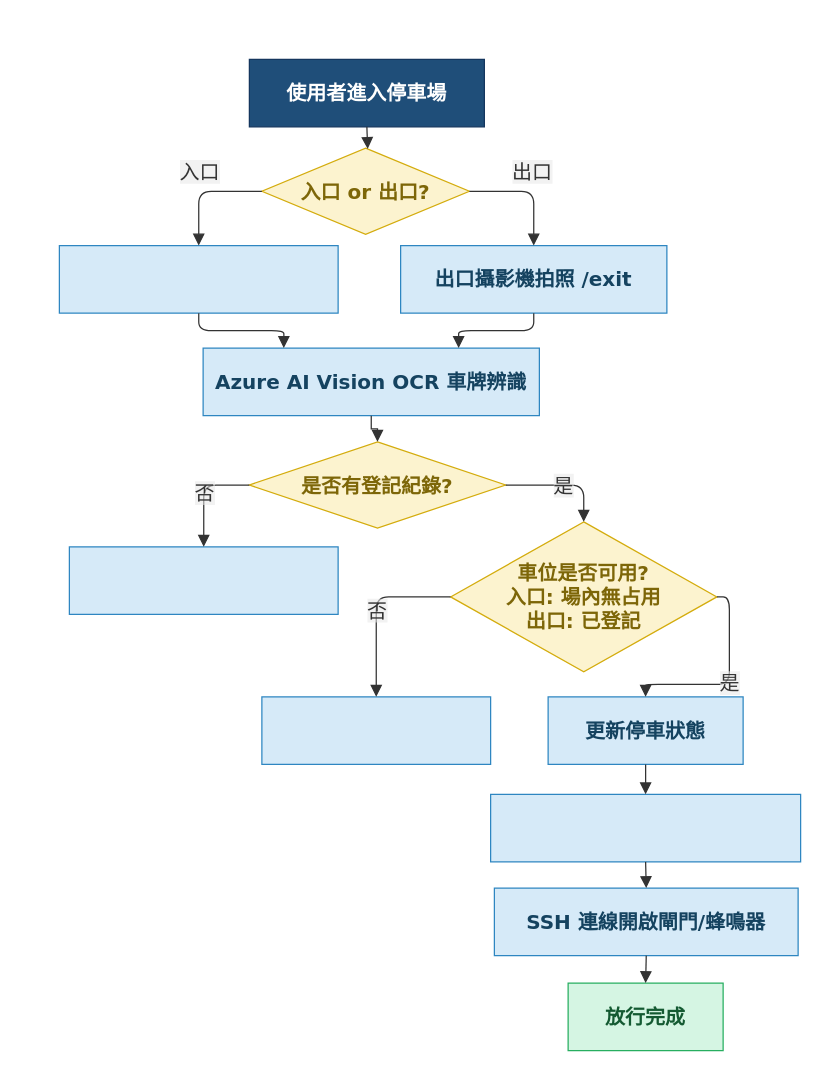
Image size: 823x1073. Some labels were removed from this diagram. The shapes that lost their labels are listed below. From the top down, each one's centre as x and y in pixels, then its label:
the point at 198,278: 入口攝影機拍照 /entry
the point at 203,580: 拒絕進出: 非登記車輛
the point at 376,730: 拒絕: 車位使用中
the point at 645,827: 寫入 access_logs 進出紀錄
